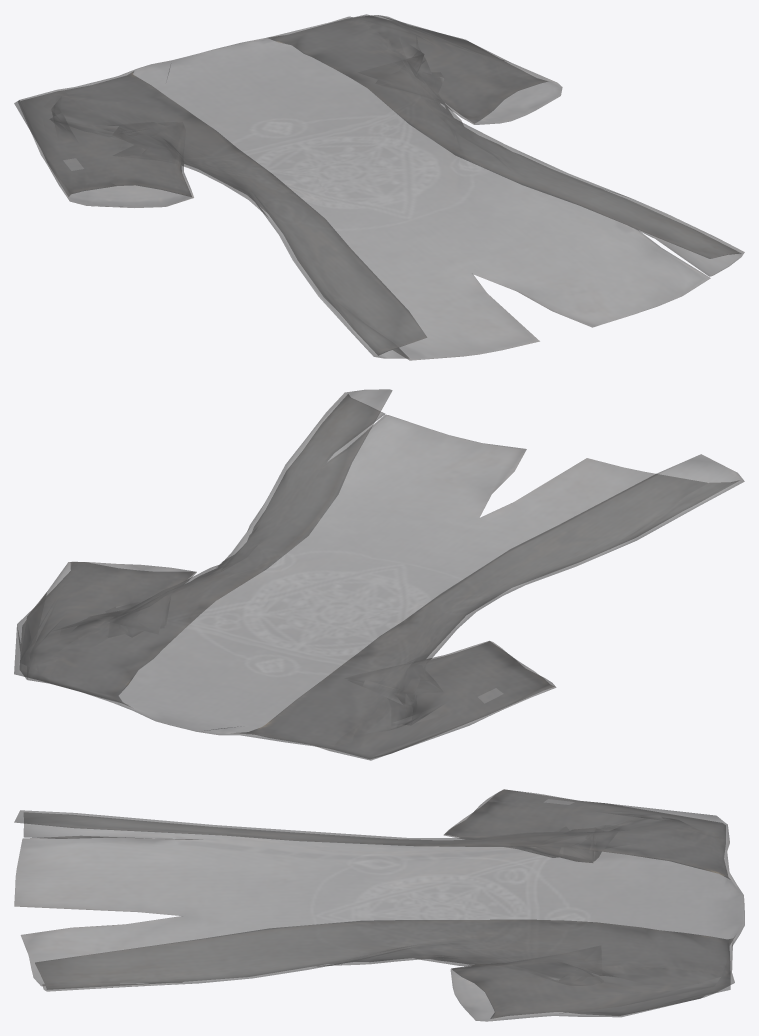
Rendered from SheerJacket_Ground.fbx.
3 renders of one model, top to bottom at view 1: azimuth 30°, elevation 25°; view 2: azimuth 150°, elevation 25°; view 3: azimuth 270°, elevation 25°, orthographic. The views are drawn at different scales.
Visible parts, largest first — view 1: SheerJacket; view 2: SheerJacket; view 3: SheerJacket.
Boxes of the visible parts, x1=… form: SheerJacket: x1=14, y1=14, x2=744, y2=360; SheerJacket: x1=14, y1=389, x2=744, y2=760; SheerJacket: x1=14, y1=789, x2=744, y2=1021.
Size of the model in its own units: 0.2961 by 0.0218 by 0.3972.
